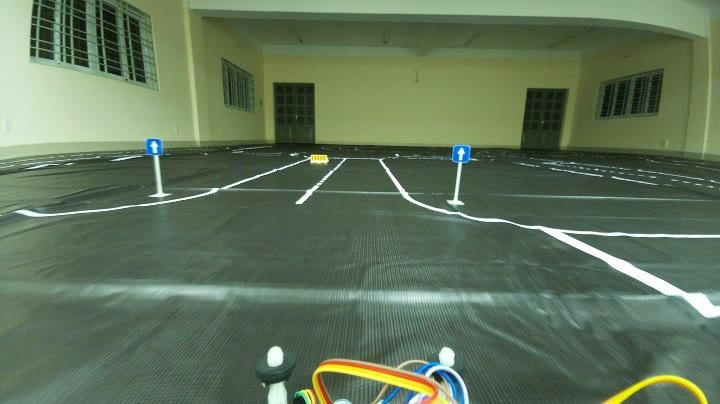onewayroad: (447, 136, 476, 170), (143, 136, 166, 160)
roadblock: (308, 150, 328, 164)
